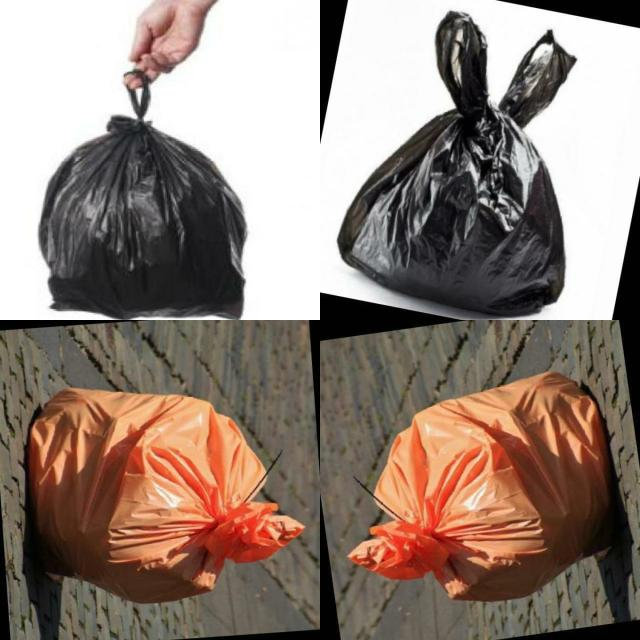Single-layer Plastic: (338, 11, 576, 316), (349, 372, 612, 601), (29, 389, 304, 602), (39, 79, 246, 319)
